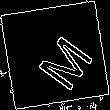M_NW: (21, 22, 89, 88)
